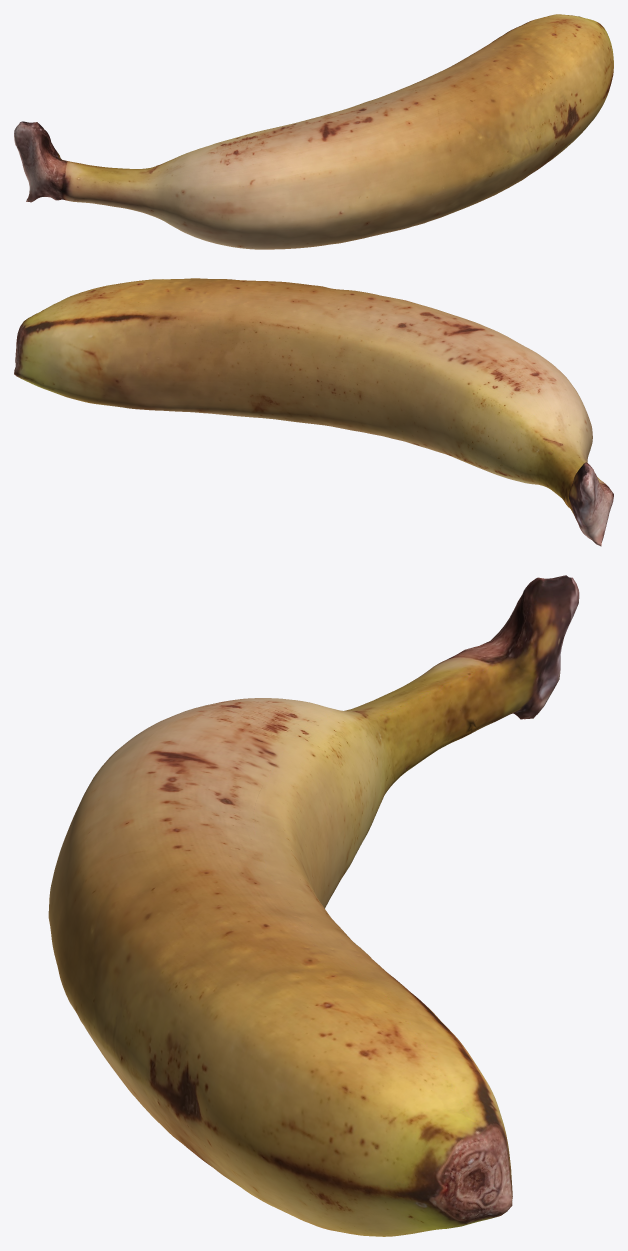
File: Banana.fbx
3 views of the same model, one above another, from view 1: azimuth 30°, elevation 25°; view 2: azimuth 150°, elevation 25°; view 3: azimuth 270°, elevation 25° (orthographic). The views are drawn at different scales.
Visible parts, largest first — view 1: Banana.001; view 2: Banana.001; view 3: Banana.001.
Boxes of the visible parts, x1,y1,x2,y2 form: Banana.001: [14, 14, 613, 249]; Banana.001: [14, 278, 613, 546]; Banana.001: [48, 575, 579, 1236].
Size of the model in its own units: 112 by 21.95 by 45.68.
1 material, 1 textured.
